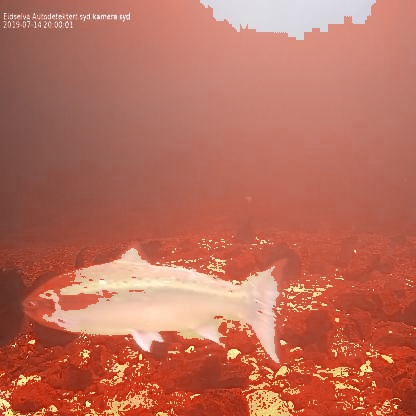salmon: (17, 234, 291, 368)
